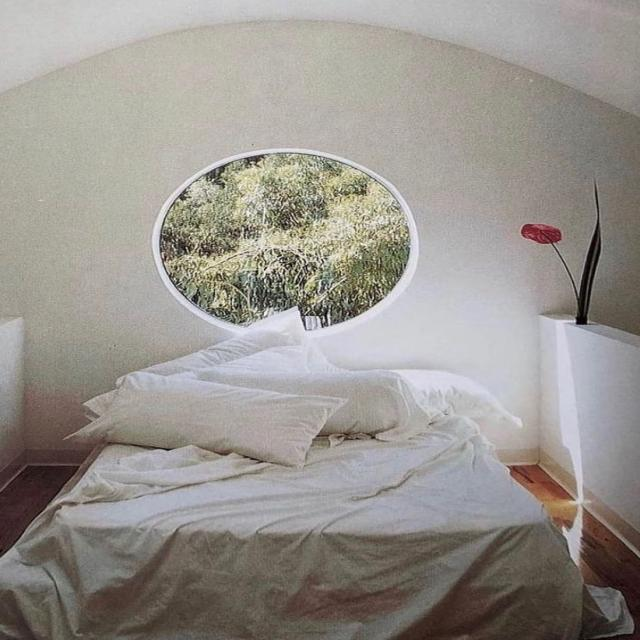bed: (14, 308, 586, 640)
